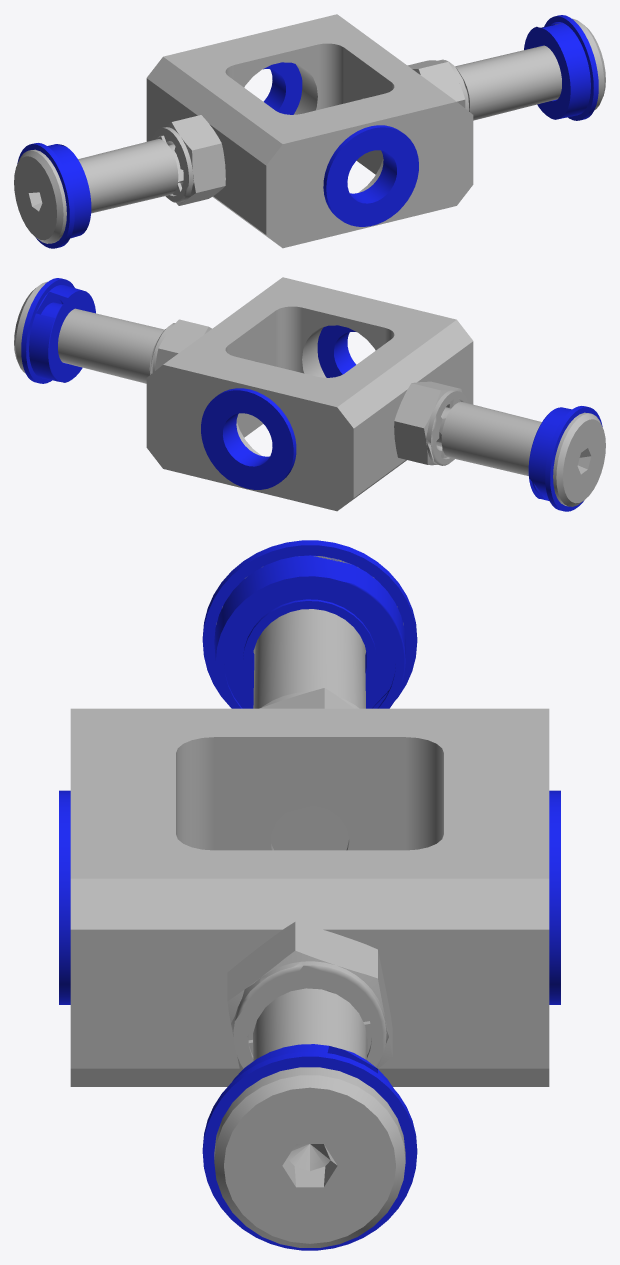
The model's file is l_wrist_center_link.dae.
3 renders of one model, top to bottom at view 1: azimuth 30°, elevation 25°; view 2: azimuth 150°, elevation 25°; view 3: azimuth 270°, elevation 25°, orthographic. The views are drawn at different scales.
Parts seen in each view (by area): view 1: FBXASC227FBXASC130FBXASC189FBXASC227FBXASC131FBXASC170FBXASC (×9); view 2: FBXASC227FBXASC130FBXASC189FBXASC227FBXASC131FBXASC170FBXASC (×9); view 3: FBXASC227FBXASC130FBXASC189FBXASC227FBXASC131FBXASC170FBXASC (×9).
Part boxes in pixels (x1=…): FBXASC227FBXASC130FBXASC189FBXASC227FBXASC131FBXASC170FBXASC (×9): x1=14, y1=14, x2=605, y2=248; FBXASC227FBXASC130FBXASC189FBXASC227FBXASC131FBXASC170FBXASC (×9): x1=14, y1=277, x2=605, y2=511; FBXASC227FBXASC130FBXASC189FBXASC227FBXASC131FBXASC170FBXASC (×9): x1=59, y1=540, x2=560, y2=1250.
Bounding box in the file's own units: 0.0662 × 0.0262 × 0.012.
